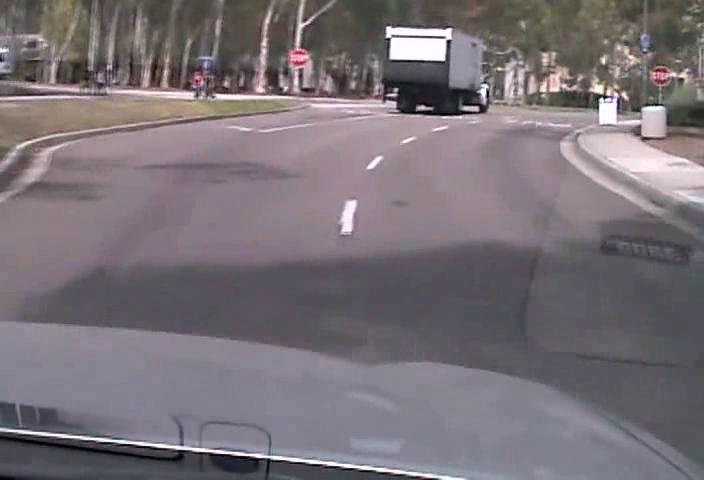stop: (288, 47, 309, 67)
